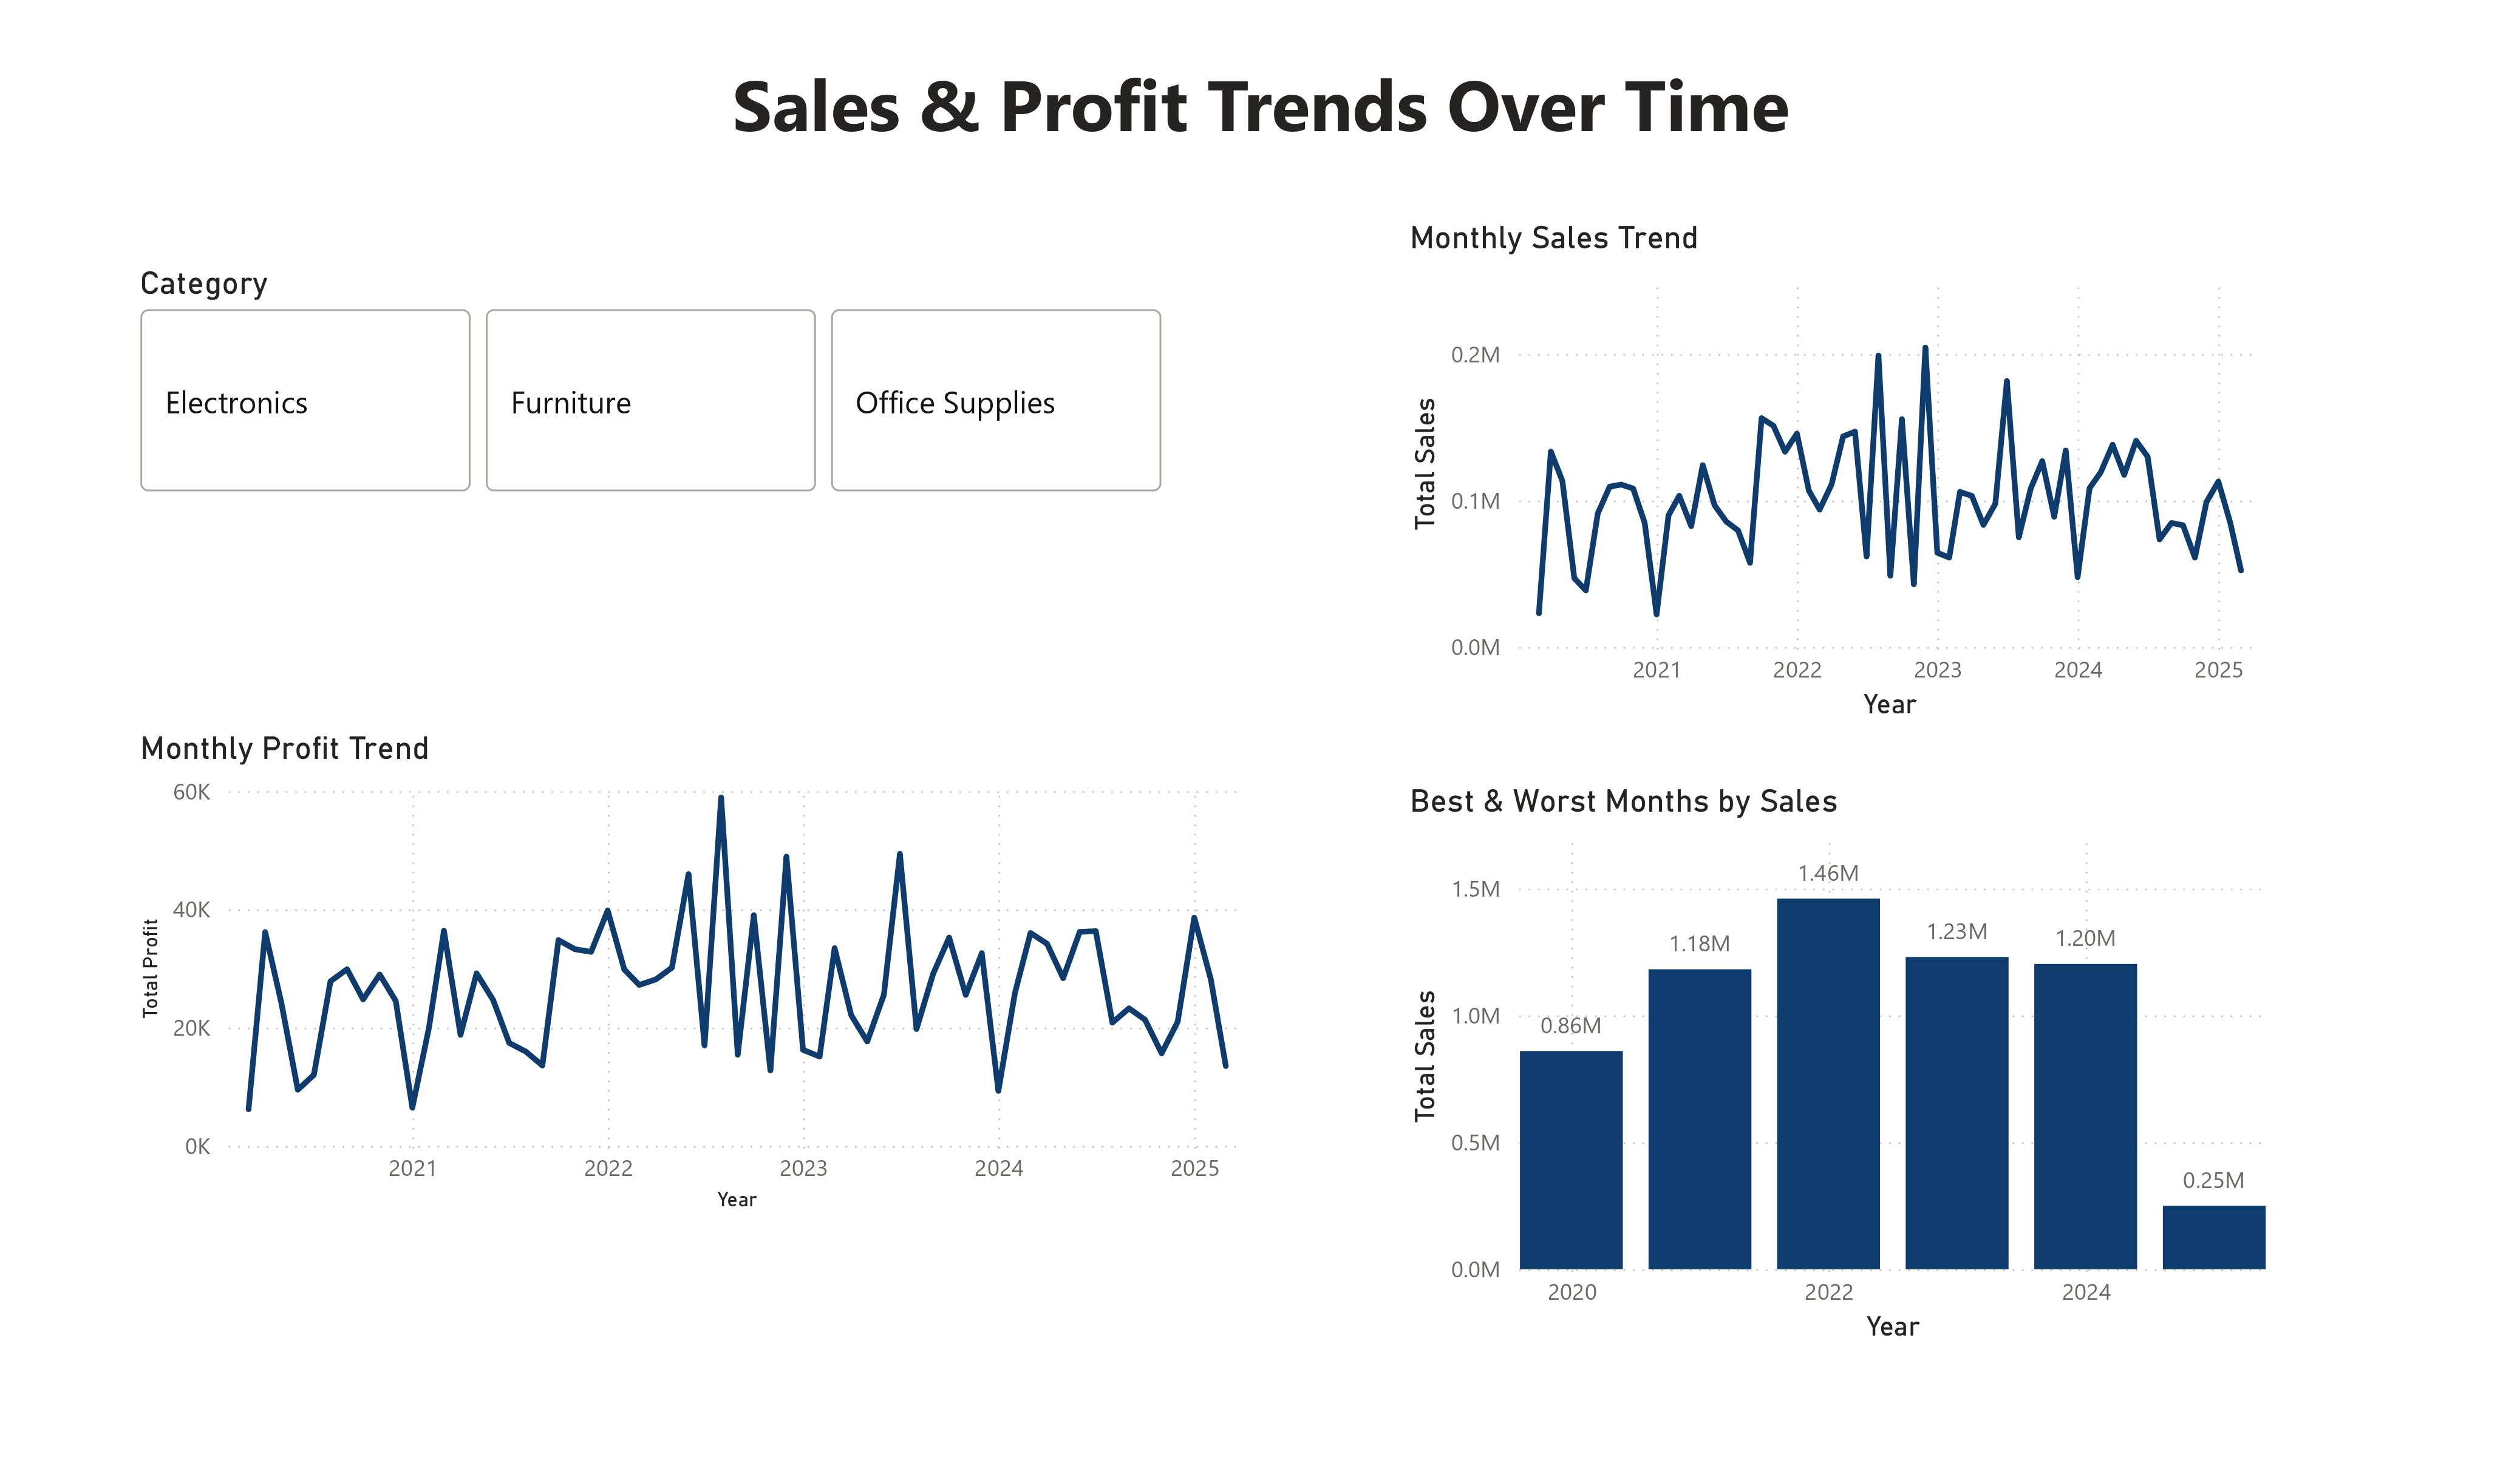

The dashboard page shown, as its layout file describes it:
{"tool":"powerbi","page":{"name":"Time-based Trends","canvas":[1280,720],"ordinal":1},"visuals":[{"type":"lineChart","title":"Monthly Sales Trend","fields":{"Y":["public retail_sales.Total Sales"],"Category":["public retail_sales.order_date.Variation.Date Hierarchy.Year","public retail_sales.order_date.Variation.Date Hierarchy.Month"]},"box":[714.2,91.4,460.7,268.6],"z":0},{"type":"lineChart","title":"Monthly Profit Trend","fields":{"Y":["public retail_sales.Total Profit"],"Category":["public retail_sales.order_date.Variation.Date Hierarchy.Year","public retail_sales.order_date.Variation.Date Hierarchy.Month"]},"box":[45.1,360,595,259.3],"z":1000},{"type":"columnChart","title":"Best & Worst Months by Sales","fields":{"Y":["public retail_sales.Total Sales"],"Category":["public retail_sales.YearMonthDate.Variation.Date Hierarchy.Year"]},"box":[714.2,387.8,460.7,299.8],"z":2000},{"type":"advancedSlicerVisual","fields":{"Values":["public retail_sales.category"]},"box":[45.1,114.6,547.5,125],"z":3000},{"type":"textbox","box":[1.2,0,1279.1,64.8],"z":4000}]}

Visuals, with their boxes in screenshot pixels (x1, y1, x2, y2):
"Monthly Sales Trend" lineChart: [1401, 219, 2275, 728]
"Monthly Profit Trend" lineChart: [131, 728, 1260, 1220]
"Best & Worst Months by Sales" columnChart: [1401, 781, 2275, 1350]
advancedSlicerVisual - public retail_sales.category: [131, 263, 1170, 500]
textbox: [48, 46, 2474, 169]
